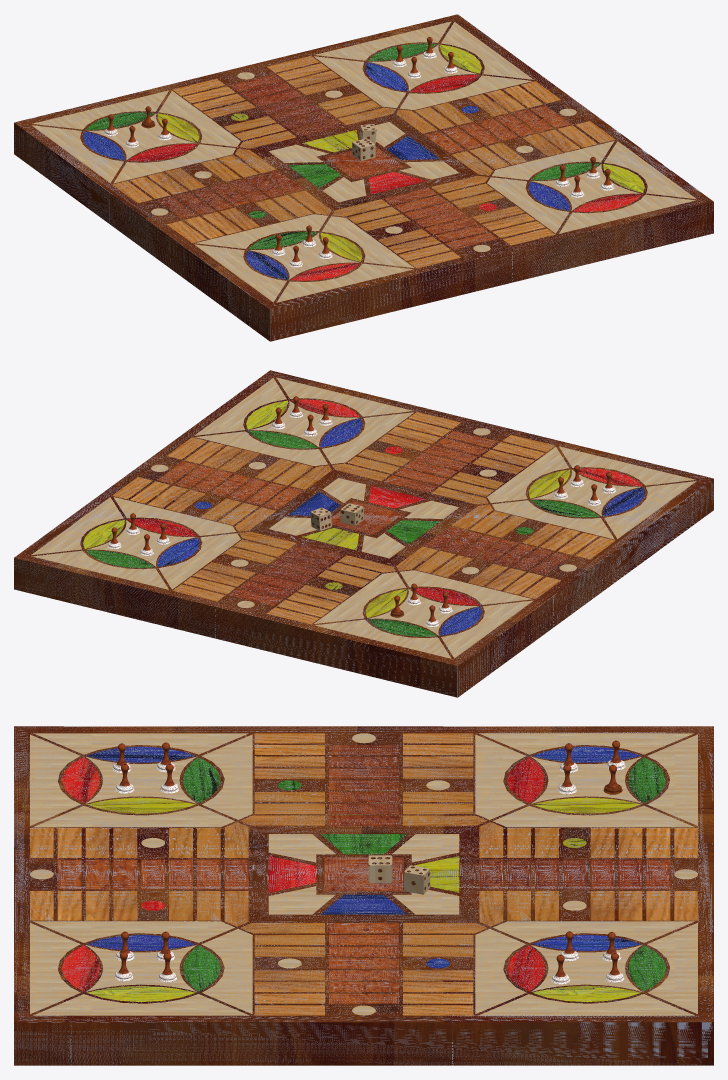
3 renders of one model, top to bottom at view 1: azimuth 30°, elevation 25°; view 2: azimuth 150°, elevation 25°; view 3: azimuth 270°, elevation 25°, orthographic. The views are drawn at different scales.
Parts seen in each view (by area): view 1: SketchUp (×45); view 2: SketchUp (×46); view 3: SketchUp (×130), group_1, group_0.
Part boxes in pixels (left/top/right/bottom): SketchUp (×45): left=14, top=14, right=713, bottom=341; SketchUp (×46): left=14, top=370, right=713, bottom=697; SketchUp (×130): left=14, top=726, right=713, bottom=1065; group_1: left=368, top=855, right=392, bottom=883; group_0: left=404, top=865, right=430, bottom=894.
Bounding box in the file's own units: 22 × 22 × 2.41.
Materials: 12 (9 with a texture image).
